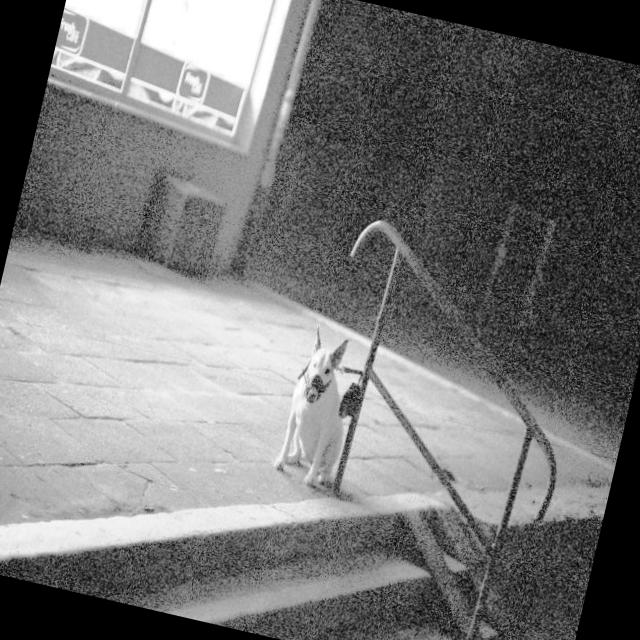Dog: (240, 306, 374, 507)
